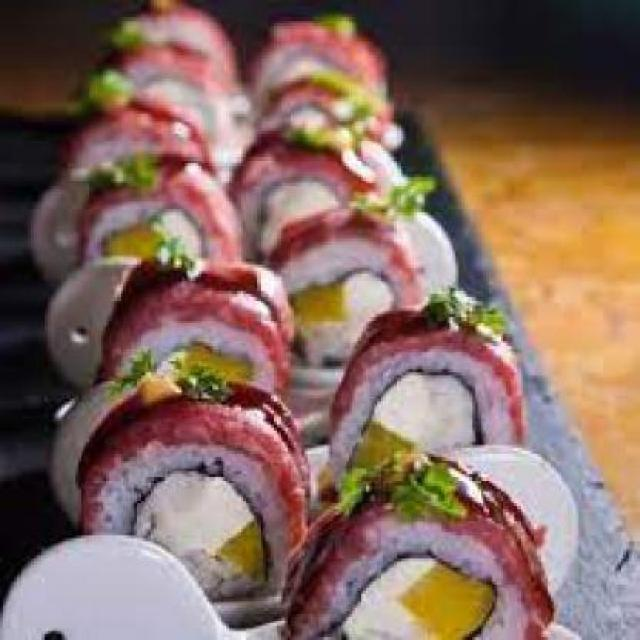steak: (92, 11, 462, 535)
